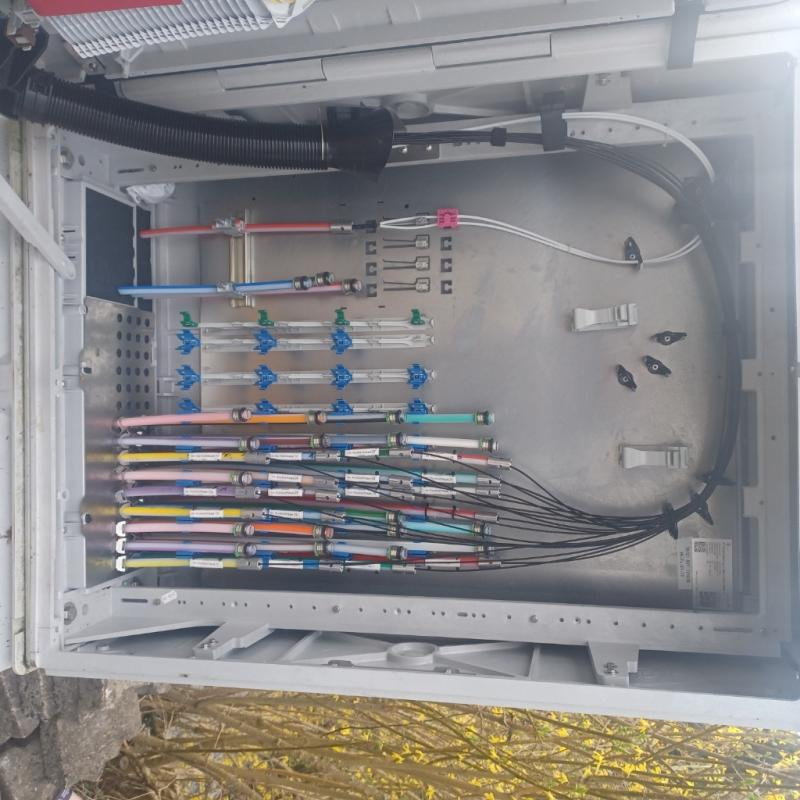NT-Gehause: (0, 5, 800, 727)
